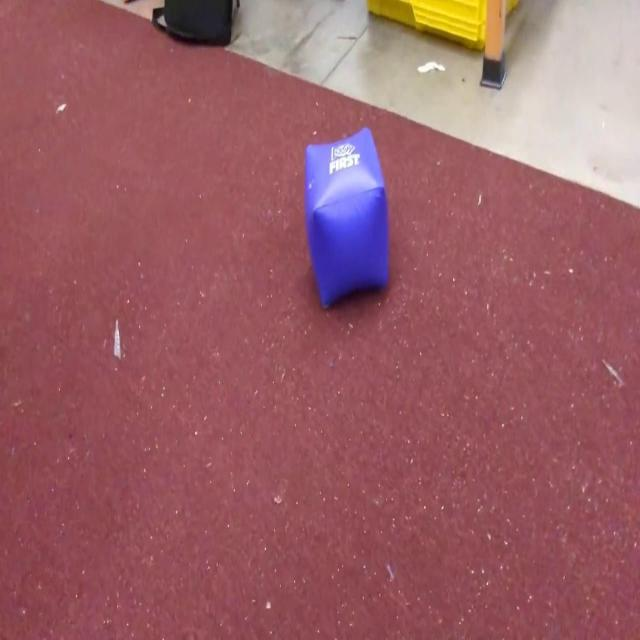frc_cube: (303, 125, 391, 314)
